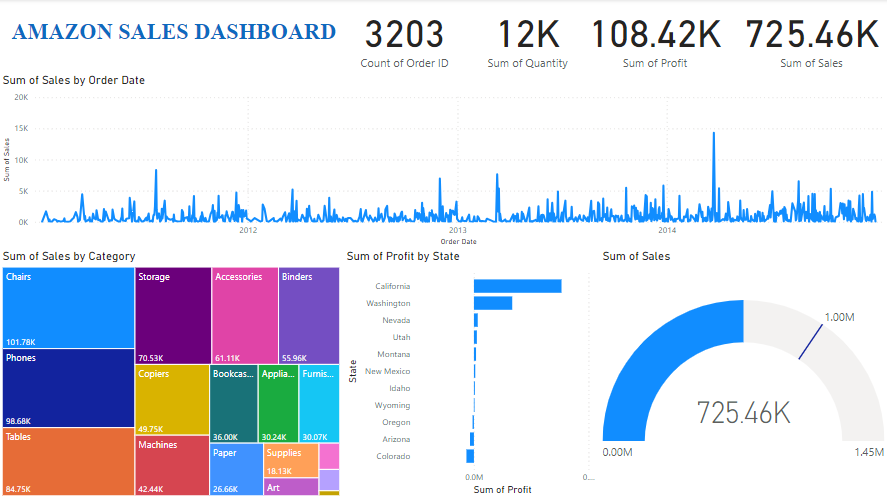

The page's visual inventory and layout, read from the dashboard file:
{"tool":"powerbi","page":{"name":"Page 1","canvas":[1280,720],"ordinal":0},"visuals":[{"type":"card","fields":{"Values":["Sum(Walmart.Sales)"]},"box":[1059.8,0,220.3,106.6],"z":0},{"type":"card","fields":{"Values":["Sum(Walmart.Profit)"]},"box":[829.4,0,230.4,106.6],"z":1},{"type":"card","fields":{"Values":["Sum(Walmart.Quantity)"]},"box":[672.5,0,177.1,106.6],"z":2},{"type":"card","fields":{"Values":["CountNonNull(Walmart.Order ID)"]},"box":[482.4,0,203,106.6],"z":3},{"type":"lineChart","fields":{"Category":["Walmart.Order Date"],"Y":["Sum(Walmart.Sales)"]},"box":[0,106.6,1280.2,253.4],"z":4},{"type":"treemap","fields":{"Group":["Walmart.Category"],"Values":["Sum(Walmart.Sales)"]},"box":[0,360,495.4,360],"z":5},{"type":"barChart","fields":{"Category":["Walmart.State"],"Y":["Sum(Walmart.Profit)"]},"box":[495.4,360,368.6,360],"z":6},{"type":"gauge","fields":{"Y":["Sum(Walmart.Sales)"]},"box":[864,360,416.2,360],"z":7},{"type":"textbox","box":[13,23,482.4,60.5],"z":8}]}

Visuals, with their boxes in screenshot pixels (x1, y1, x2, y2), scaled from the page's 1280x720 canvas onto the 887x498 screenshot:
card - Sum(Walmart.Sales): locate(734, 0, 886, 74)
card - Sum(Walmart.Profit): locate(575, 0, 734, 74)
card - Sum(Walmart.Quantity): locate(466, 0, 589, 74)
card - CountNonNull(Walmart.Order ID): locate(334, 0, 475, 74)
lineChart - Walmart.Order Date x Sum(Walmart.Sales): locate(0, 74, 886, 249)
treemap - Walmart.Category x Sum(Walmart.Sales): locate(0, 249, 343, 497)
barChart - Walmart.State x Sum(Walmart.Profit): locate(343, 249, 599, 497)
gauge - Sum(Walmart.Sales): locate(599, 249, 886, 497)
textbox: locate(9, 16, 343, 58)
